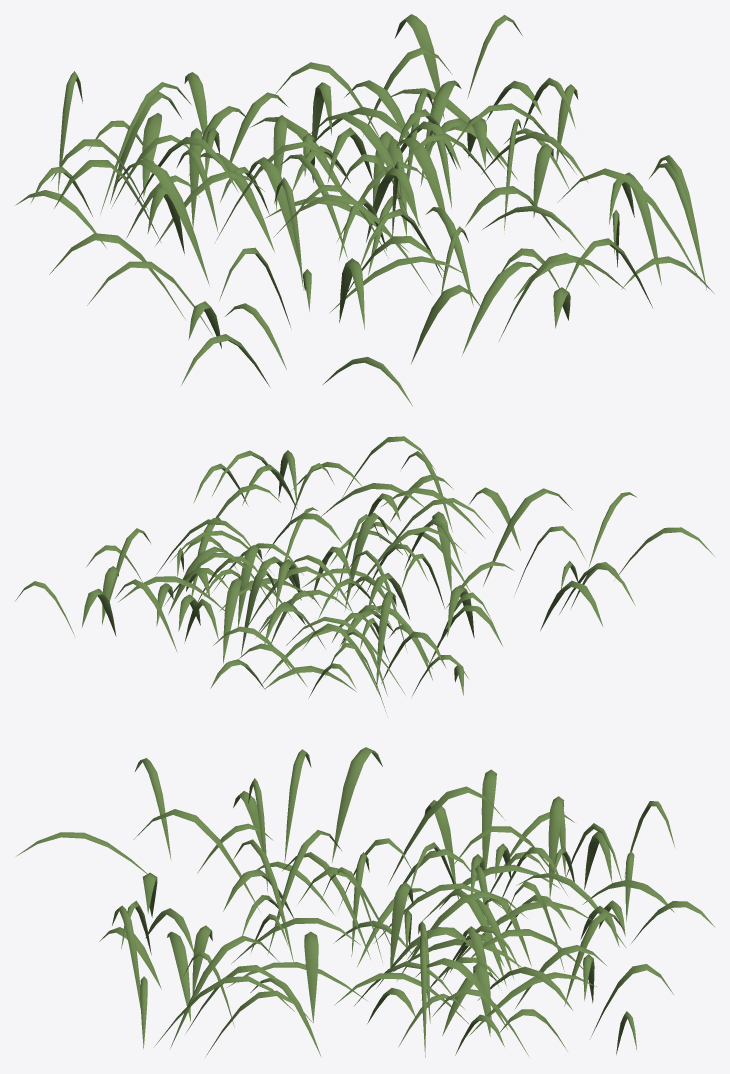
Rendered from groundcover_2.glb.
3 views of the same model, one above another, from view 1: azimuth 30°, elevation 25°; view 2: azimuth 150°, elevation 25°; view 3: azimuth 270°, elevation 25° (orthographic). The views are drawn at different scales.
Parts seen in each view (by area): view 1: Original_planted_groundcover; view 2: Original_planted_groundcover; view 3: Original_planted_groundcover.
Part boxes in pixels (x1,y1,x2,y2): Original_planted_groundcover: (15, 14, 714, 406); Original_planted_groundcover: (15, 436, 714, 712); Original_planted_groundcover: (16, 747, 714, 1057).
Bounding box in the file's own units: 1.58 × 0.2489 × 1.71.
